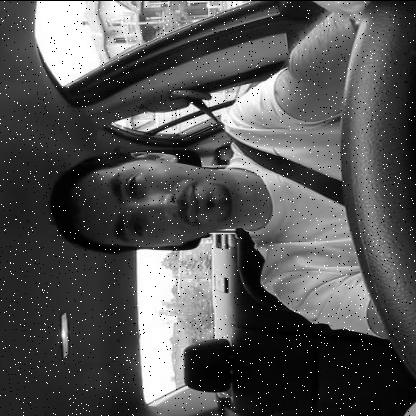seatbelt: (43, 114, 344, 292)
